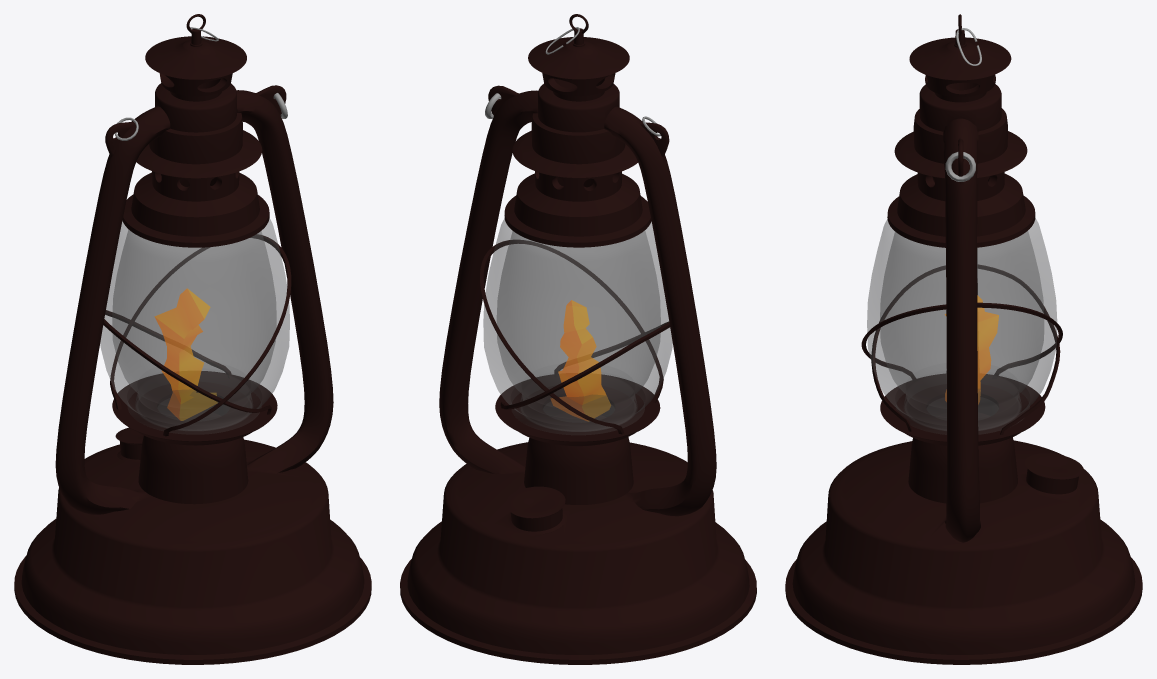
Rendered from archive_sm_kerosene_lamp_01_a.glb.
3 views of the same model, side by side, from view 1: azimuth 30°, elevation 25°; view 2: azimuth 150°, elevation 25°; view 3: azimuth 270°, elevation 25° (orthographic).
Visible parts, largest first — view 1: KerosineLamp_01_A.001; view 2: KerosineLamp_01_A.001; view 3: KerosineLamp_01_A.001.
Part boxes in pixels (box(x1,y1,x2,y2)): KerosineLamp_01_A.001: box(14, 14, 371, 664); KerosineLamp_01_A.001: box(400, 14, 756, 664); KerosineLamp_01_A.001: box(785, 14, 1142, 664).
Bounding box in the file's own units: 21.35 × 37.98 × 21.35.
